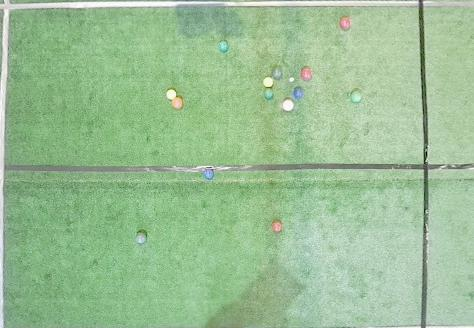blue: (203, 169, 214, 179), (294, 87, 304, 98)
green: (135, 232, 147, 244), (350, 90, 362, 102), (271, 68, 283, 79), (263, 89, 273, 100), (218, 41, 228, 52)
red: (339, 17, 351, 31), (282, 99, 294, 111), (301, 68, 312, 81), (172, 97, 183, 109), (271, 221, 282, 232)
vline: (419, 0, 473, 327), (0, 0, 14, 327)
white: (289, 77, 294, 82)
yellow: (263, 77, 274, 87), (166, 89, 176, 100)
